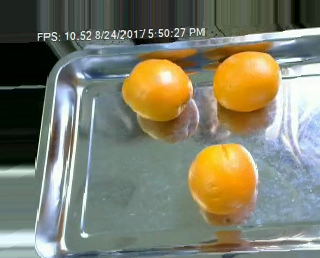Orange: (188, 141, 258, 216), (122, 57, 194, 121), (211, 50, 280, 112)
